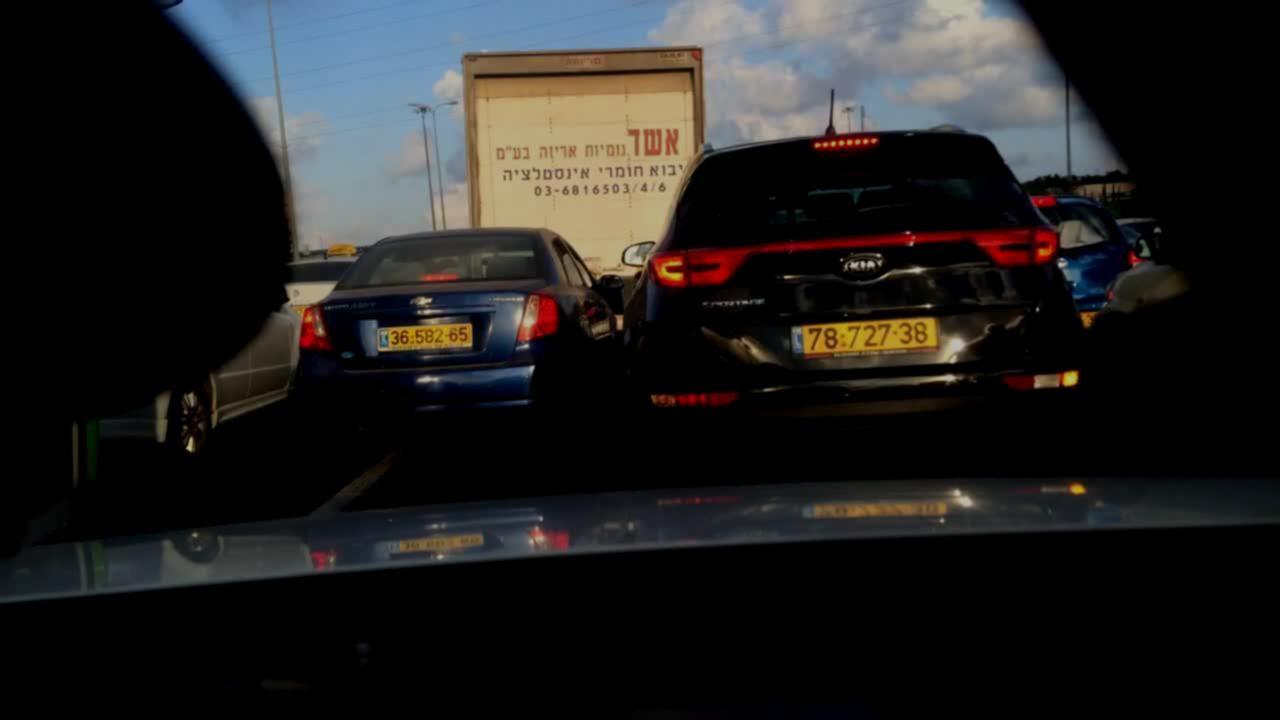chevrolet: (400, 289, 440, 314)
kia: (835, 248, 890, 281)
